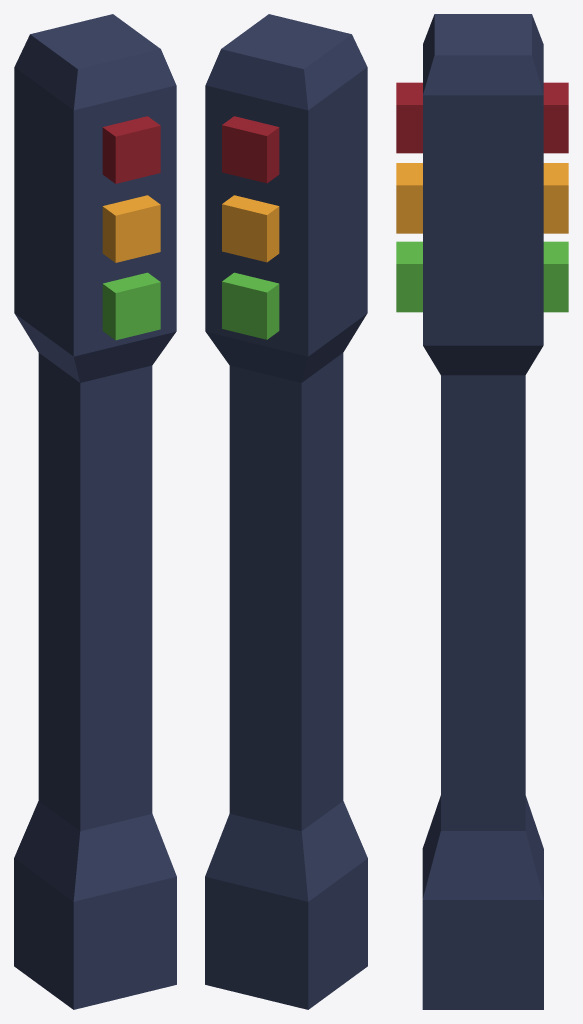
Rendered from traffic-light.fbx.
The picture shows the model from 3 angles, left to right: view 1: azimuth 30°, elevation 25°; view 2: azimuth 150°, elevation 25°; view 3: azimuth 270°, elevation 25°; orthographic projection.
Parts seen in each view (by area): view 1: trafic-light; view 2: trafic-light; view 3: trafic-light.
Part boxes in pixels (x1,y1,x2,y2): trafic-light: (14,14,176,1009); trafic-light: (205,14,367,1009); trafic-light: (396,14,568,1009).
Bounding box in the file's own units: 0.3924 × 3.39 × 0.557.
